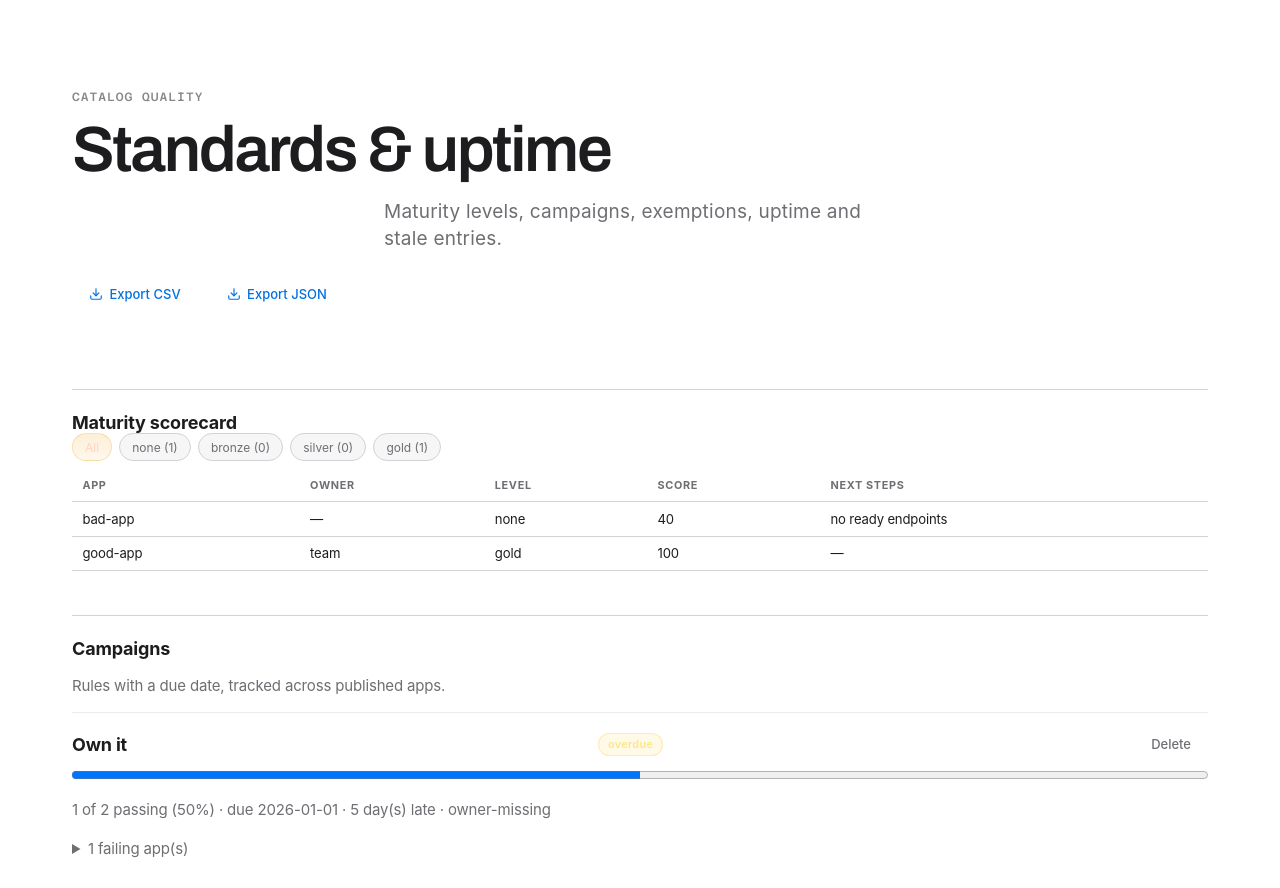
Test: QualityPage › shows the scorecard and filters by level
Expected: the link "good-app" is shown, x1=82 y1=545 x2=142 y2=561
Click the button "none (1)": click(155, 447) x1=119 y1=433 x2=191 y2=461
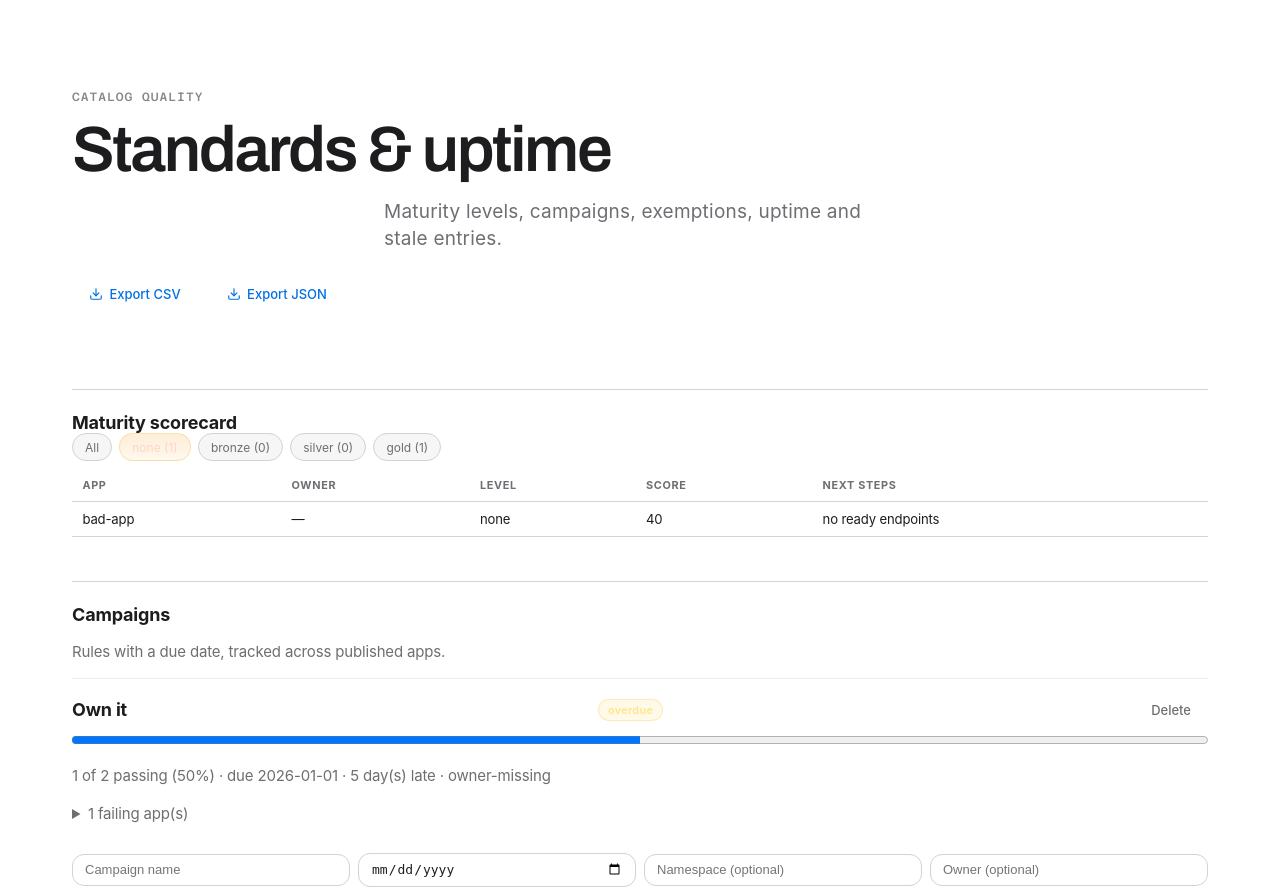
Expected: the text "no ready endpoints" is shown, x1=812 y1=501 x2=1208 y2=536
Expected: the link "good-app" is gone
